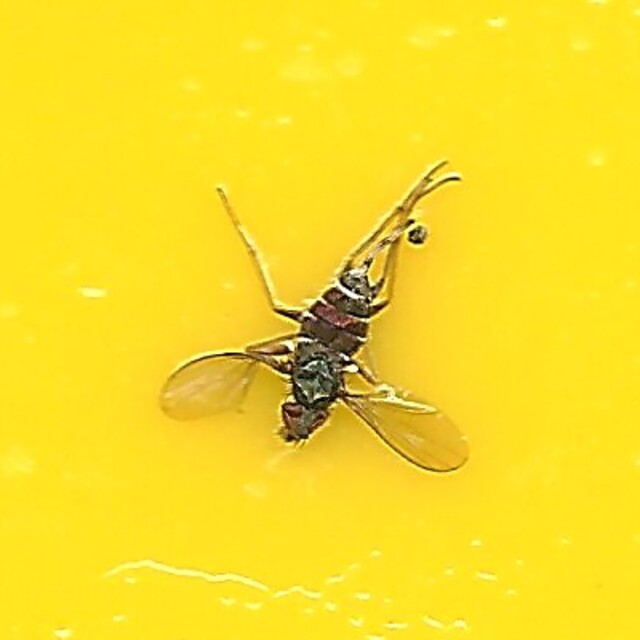Brachycera: (160, 163, 480, 477)
